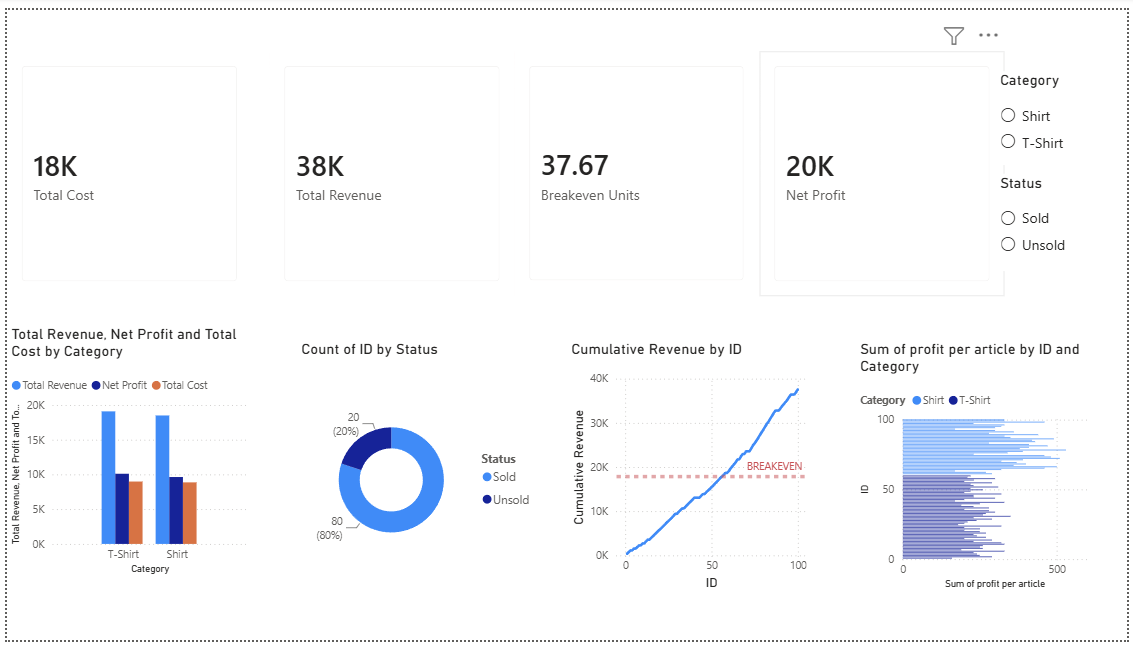

The page's visual inventory and layout, read from the dashboard file:
{"tool":"powerbi","page":{"name":"Page 1","canvas":[1280,720],"ordinal":0},"visuals":[{"type":"cardVisual","fields":{"Data":["Sales Data.Total Cost"]},"box":[0,47.1,280,280],"z":0},{"type":"cardVisual","fields":{"Data":["Sales Data.Total Revenue"]},"box":[300,47.1,280,280],"z":1000},{"type":"cardVisual","fields":{"Data":["Sales Data.Breakeven Units"]},"box":[580,47.1,279.9,279.9],"z":2000},{"type":"cardVisual","fields":{"Data":["Sales Data.Net Profit"]},"box":[860,47.1,280,280],"z":3000},{"type":"donutChart","fields":{"Category":["Sales Data.Status"],"Y":["CountNonNull(Sales Data.ID)"]},"box":[331.4,377.1,279.9,289.5],"z":4000},{"type":"clusteredColumnChart","fields":{"Category":["Sales Data.Category"],"Y":["Sales Data.Total Revenue","Sales Data.Net Profit","Sales Data.Total Cost"]},"box":[0,360,280,290],"z":5000},{"type":"lineChart","fields":{"Category":["Sales Data.ID"],"Y":["Sales Data.Cumulative Revenue"]},"box":[640,377.1,279,290],"z":6000},{"type":"clusteredBarChart","fields":{"Category":["Sales Data.ID"],"Y":["Sum(Sales Data.Margin)"],"Series":["Sales Data.Category"]},"box":[970,377.1,280,290],"z":7000},{"type":"listSlicer","fields":{"Values":["Sales Data.Status"]},"box":[1130,187.1,148.6,111.4],"z":8000},{"type":"listSlicer","fields":{"Values":["Sales Data.Category"]},"box":[1130,70,120,107.1],"z":9000}]}

Visuals, with their boxes on the page's 1280x720 design canvas (x1, y1, x2, y2). These are canvas units, not pixel positions in the 1133x670 screenshot, which may show the page scaled, cropped or inside an application window:
cardVisual - Sales Data.Total Cost: crop(0, 47, 280, 327)
cardVisual - Sales Data.Total Revenue: crop(300, 47, 580, 327)
cardVisual - Sales Data.Breakeven Units: crop(580, 47, 860, 327)
cardVisual - Sales Data.Net Profit: crop(860, 47, 1140, 327)
donutChart - Sales Data.Status x CountNonNull(Sales Data.ID): crop(331, 377, 611, 667)
clusteredColumnChart - Sales Data.Category x Sales Data.Total Revenue: crop(0, 360, 280, 650)
lineChart - Sales Data.ID x Sales Data.Cumulative Revenue: crop(640, 377, 919, 667)
clusteredBarChart - Sales Data.ID x Sum(Sales Data.Margin): crop(970, 377, 1250, 667)
listSlicer - Sales Data.Status: crop(1130, 187, 1279, 298)
listSlicer - Sales Data.Category: crop(1130, 70, 1250, 177)
